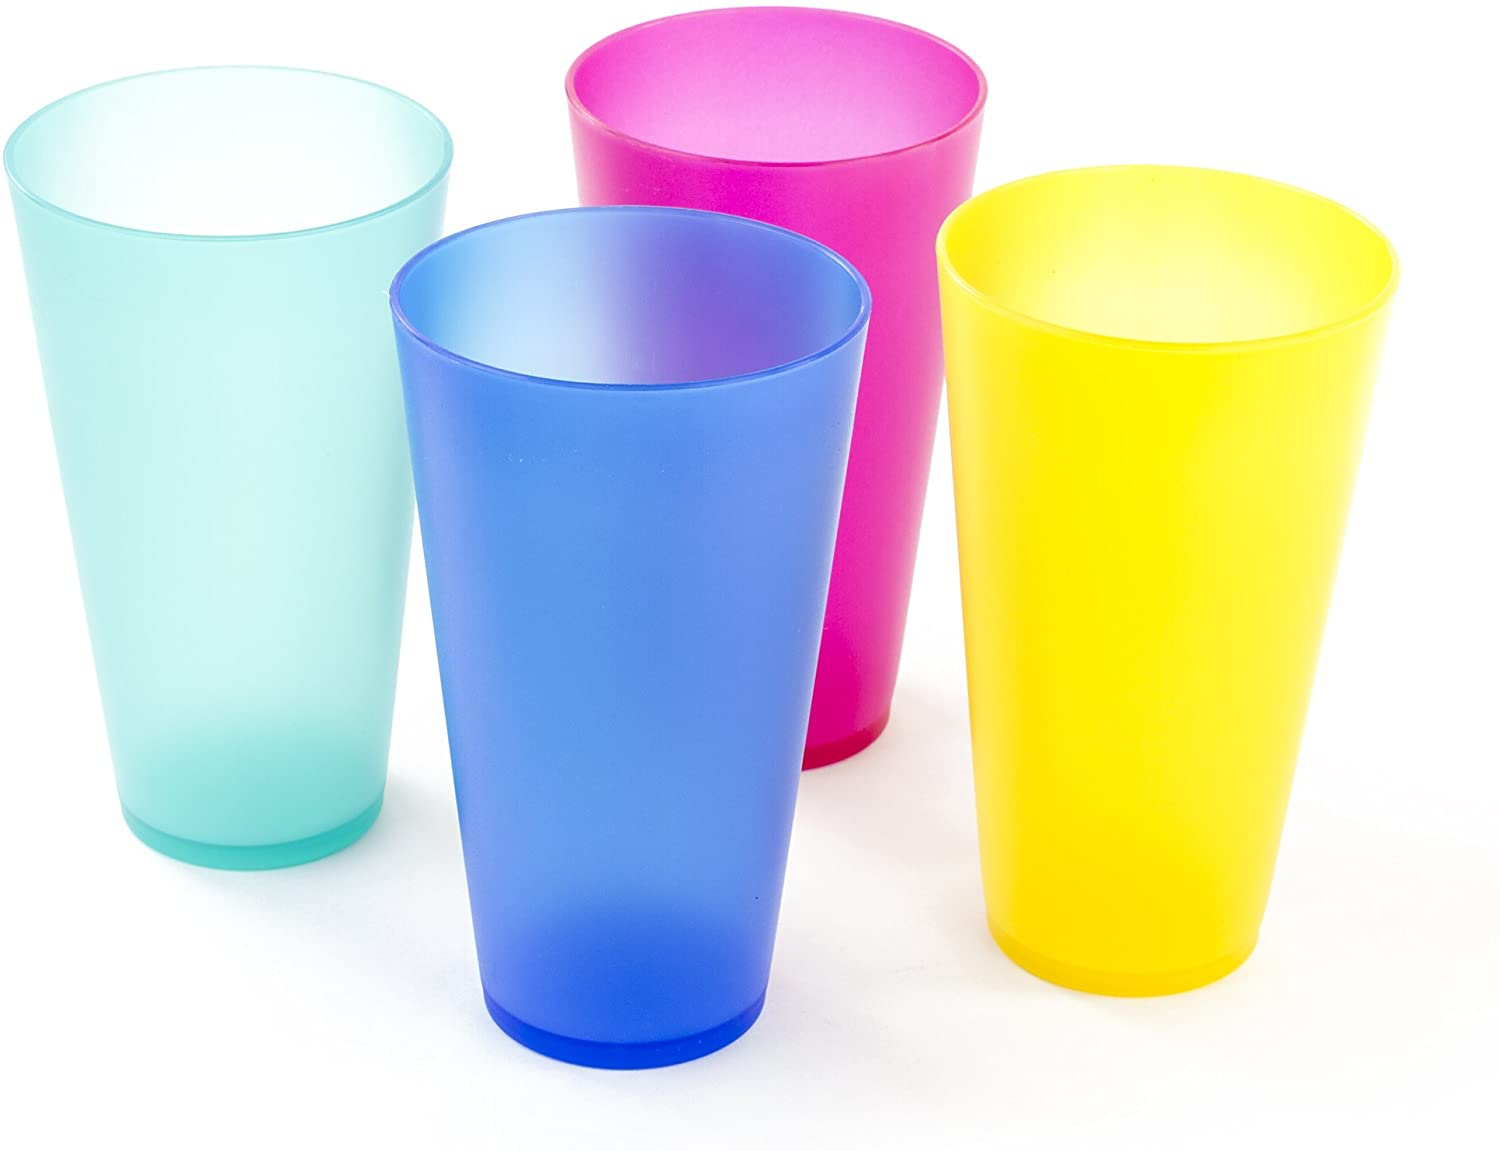plastic_bottle: (384, 199, 881, 1083), (934, 156, 1405, 1012), (1, 60, 457, 885)
